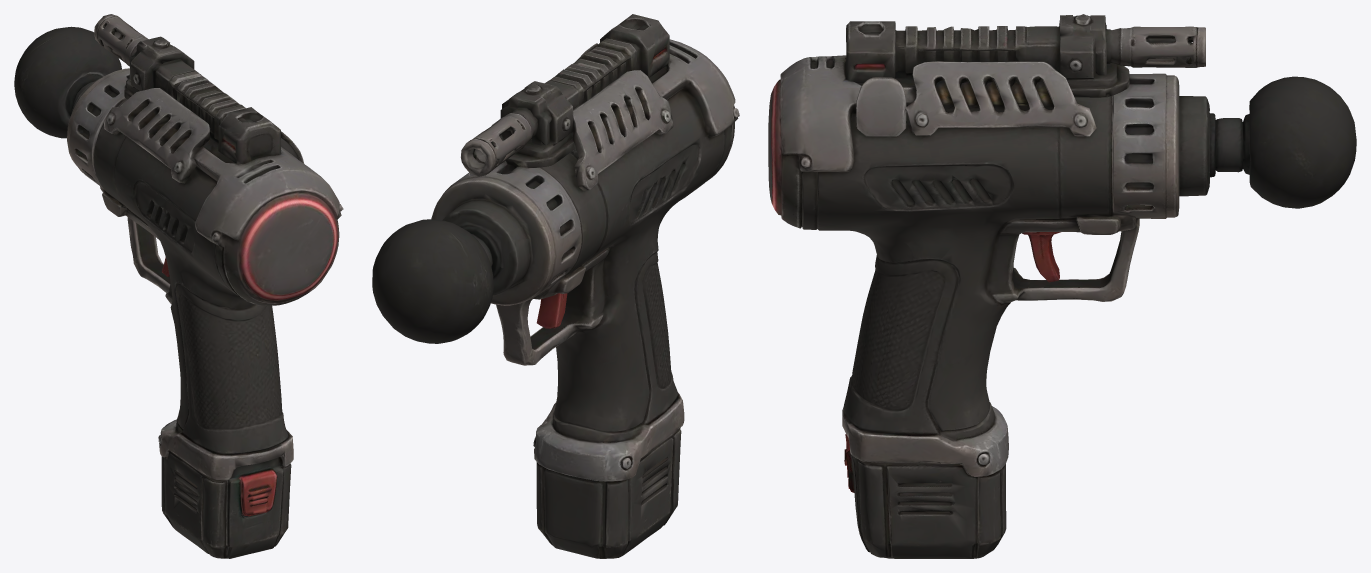
File: weapon-percussion.glb
3 views of the same model, side by side, from view 1: azimuth 30°, elevation 25°; view 2: azimuth 150°, elevation 25°; view 3: azimuth 270°, elevation 25° (orthographic). The views are drawn at different scales.
Visible parts, largest first — view 1: tripo_node_e3af900c-11b4-4297-82c4-7323e0f72061; view 2: tripo_node_e3af900c-11b4-4297-82c4-7323e0f72061; view 3: tripo_node_e3af900c-11b4-4297-82c4-7323e0f72061.
Boxes of the visible parts, x1=… form: tripo_node_e3af900c-11b4-4297-82c4-7323e0f72061: x1=14, y1=14, x2=343, y2=558; tripo_node_e3af900c-11b4-4297-82c4-7323e0f72061: x1=372, y1=14, x2=739, y2=558; tripo_node_e3af900c-11b4-4297-82c4-7323e0f72061: x1=768, y1=14, x2=1356, y2=558.
Size of the model in its own units: 0.0893 by 0.2977 by 0.3.
1 material, 1 textured.
